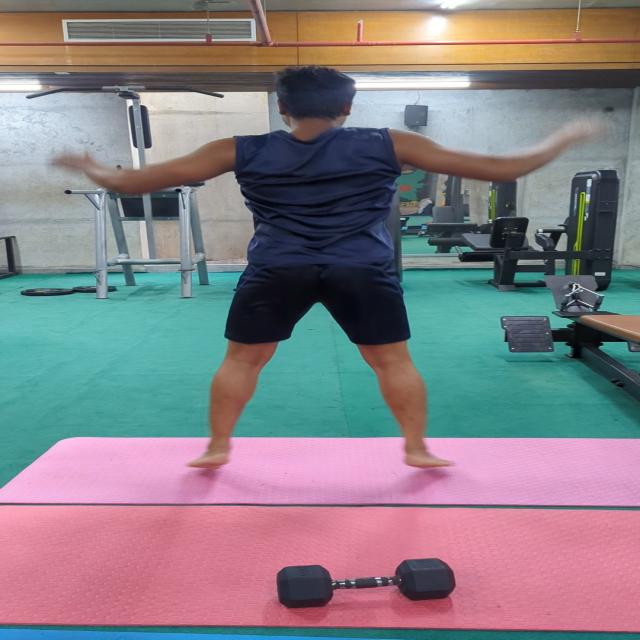Normal_JumpingJacks: (51, 69, 596, 480)
